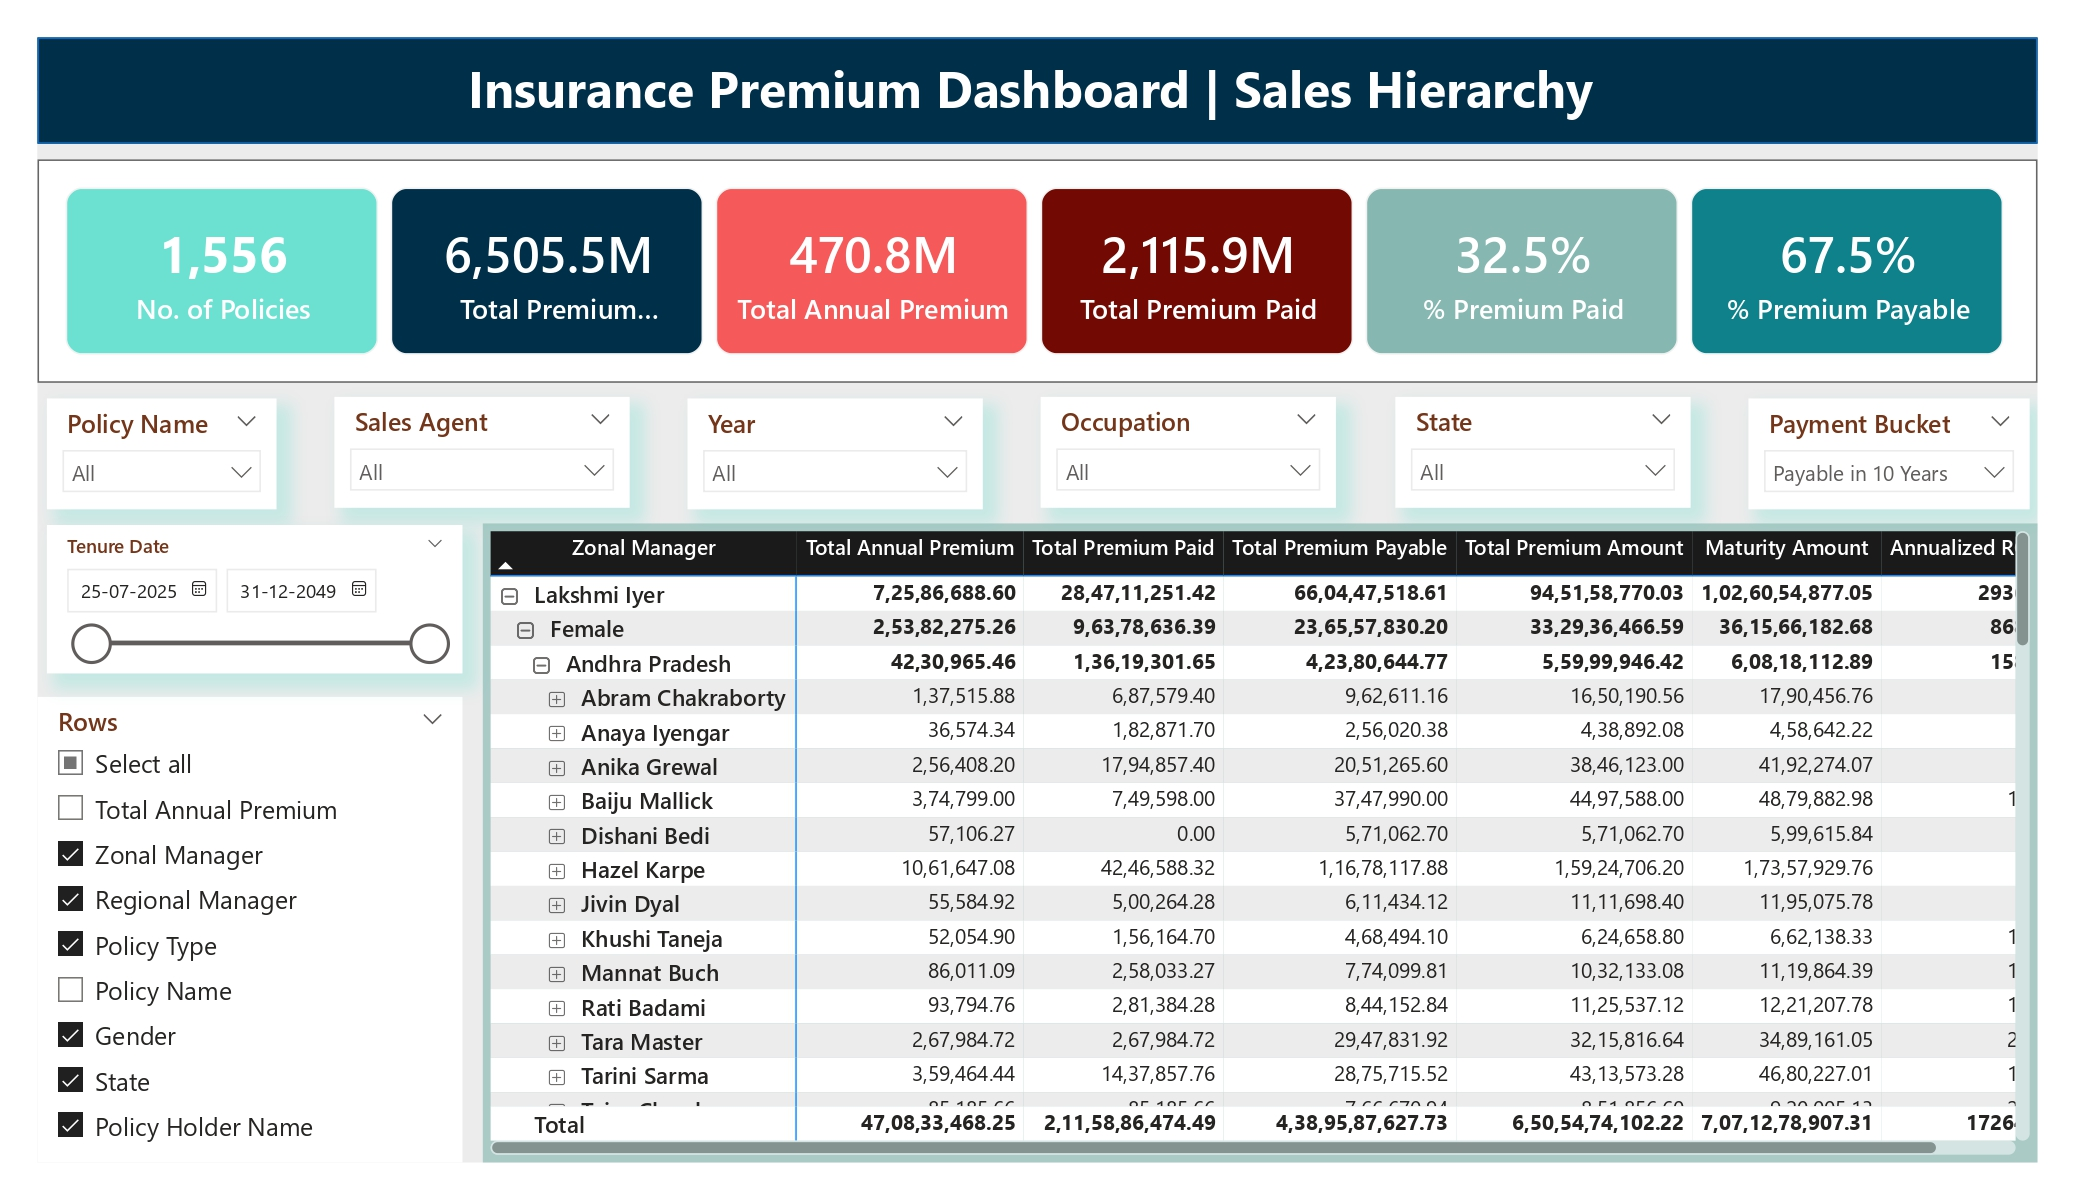

The page's visual inventory and layout, read from the dashboard file:
{"tool":"powerbi","page":{"name":"Sales Hierarchy","canvas":[1280,720],"ordinal":5},"visuals":[{"type":"slicer","fields":{"Values":["DM Policy_Protection_Plan.Policy Name"]},"box":[6.2,231.4,146.8,70.9],"z":0},{"type":"shape","box":[0,0,1280,68.4],"z":1000,"group":"g1"},{"type":"slicer","fields":{"Values":["DM Insurance_Agent_Table.Sales Agent"]},"box":[190.1,230.1,189.1,70.9],"z":1000},{"type":"textbox","box":[5.6,5,1268.8,58.5],"z":2000,"group":"g1"},{"type":"slicer","fields":{"Values":["FCT Insurance_Policy_Table.Date of Purchase.Variation.Date Hierarchy.Year"]},"box":[416.2,231.4,189.1,70.9],"z":2000},{"type":"slicer","fields":{"Values":["DM Customer_Detail_Table.State"]},"box":[868.5,230.1,189.1,70.9],"z":3000},{"type":"slicer","fields":{"Values":["DM Customer_Detail_Table.Occupation"]},"box":[642.4,230.1,189.1,70.9],"z":4000},{"type":"cardVisual","fields":{"Data":["CountNonNull(DM Customer_Detail_Table.Customer ID)","Sum(FCT Insurance_Policy_Table.Total Premium Amount)","Sum(FCT Insurance_Policy_Table.Total Annual Premium)","Sum(FCT Insurance_Policy_Table.Total Premium Paid)","DM Customer_Detail_Table.% Premium Paid","DM Customer_Detail_Table.% Premium Payable"]},"box":[0,78.4,1280,143.1],"z":5000},{"type":"group","id":"g1","title":"Group 1","box":[0,0,1280,68.4],"z":6000},{"type":"slicer","fields":{"Values":["FCT Insurance_Policy_Table.Payment Bucket"]},"box":[1094.7,231.4,180.4,70.9],"z":7000},{"type":"slicer","fields":{"Values":["Rows.Rows"]},"box":[0,421.7,272.4,298.6],"z":8000},{"type":"pivotTable","fields":{"Rows":["DM Zonal_Manager.Zonal Manager Name","DM Customer_Detail_Table.Gender","DM Customer_Detail_Table.State","DM Customer_Detail_Table.Policy Holder Name","DM Policy_Type.Policy Type","DM Regional_Manager.Regional Manager Name"],"Values":["Sum(FCT Insurance_Policy_Table.Total Annual Premium)","Sum(FCT Insurance_Policy_Table.Total Premium Paid)","Sum(FCT Insurance_Policy_Table.Total Premium Payable)","Sum(FCT Insurance_Policy_Table.Total Premium Amount)","Sum(FCT Insurance_Policy_Table.Maturity Amount)","Sum(FCT Insurance_Policy_Table.Annualized ROI (%))"]},"box":[284.9,311,995.2,409.3],"z":9000},{"type":"slicer","fields":{"Values":["FCT Insurance_Policy_Table.Tenure Date"]},"box":[6.2,312.2,266.2,94.5],"z":10000}]}

Visuals, with their boxes on the page's 1280x720 design canvas (x1, y1, x2, y2). These are canvas units, not pixel positions in the 2075x1200 screenshot, which may show the page scaled, cropped or inside an application window:
slicer - DM Policy_Protection_Plan.Policy Name: {"left": 6, "top": 231, "right": 153, "bottom": 302}
shape: {"left": 0, "top": 0, "right": 1280, "bottom": 68}
slicer - DM Insurance_Agent_Table.Sales Agent: {"left": 190, "top": 230, "right": 379, "bottom": 301}
textbox: {"left": 6, "top": 5, "right": 1274, "bottom": 64}
slicer - FCT Insurance_Policy_Table.Date of Purchase.Variation.Date Hierarchy.Year: {"left": 416, "top": 231, "right": 605, "bottom": 302}
slicer - DM Customer_Detail_Table.State: {"left": 868, "top": 230, "right": 1058, "bottom": 301}
slicer - DM Customer_Detail_Table.Occupation: {"left": 642, "top": 230, "right": 832, "bottom": 301}
cardVisual - CountNonNull(DM Customer_Detail_Table.Customer ID) x Sum(FCT Insurance_Policy_Table.Total Premium Amount): {"left": 0, "top": 78, "right": 1280, "bottom": 222}
"Group 1" group: {"left": 0, "top": 0, "right": 1280, "bottom": 68}
slicer - FCT Insurance_Policy_Table.Payment Bucket: {"left": 1095, "top": 231, "right": 1275, "bottom": 302}
slicer - Rows.Rows: {"left": 0, "top": 422, "right": 272, "bottom": 720}
pivotTable - DM Zonal_Manager.Zonal Manager Name x DM Customer_Detail_Table.Gender: {"left": 285, "top": 311, "right": 1280, "bottom": 720}
slicer - FCT Insurance_Policy_Table.Tenure Date: {"left": 6, "top": 312, "right": 272, "bottom": 407}
